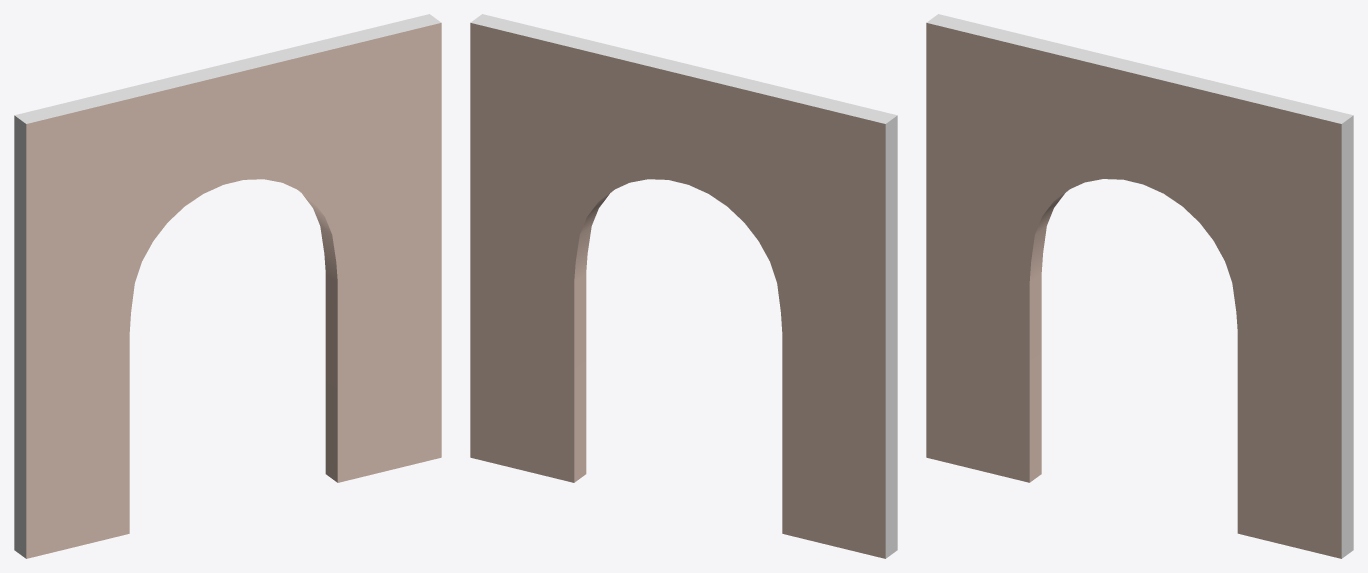
File: wall_079.fbx
3 renders of one model, left to right at view 1: azimuth 30°, elevation 25°; view 2: azimuth 150°, elevation 25°; view 3: azimuth 330°, elevation 25°, orthographic.
Visible parts, largest first — view 1: wall_079; view 2: wall_079; view 3: wall_079.
Boxes of the visible parts, x1=… form: wall_079: x1=14, y1=14, x2=441, y2=558; wall_079: x1=470, y1=14, x2=897, y2=558; wall_079: x1=926, y1=14, x2=1353, y2=558.
Size of the model in its own units: 400 by 20 by 400.
